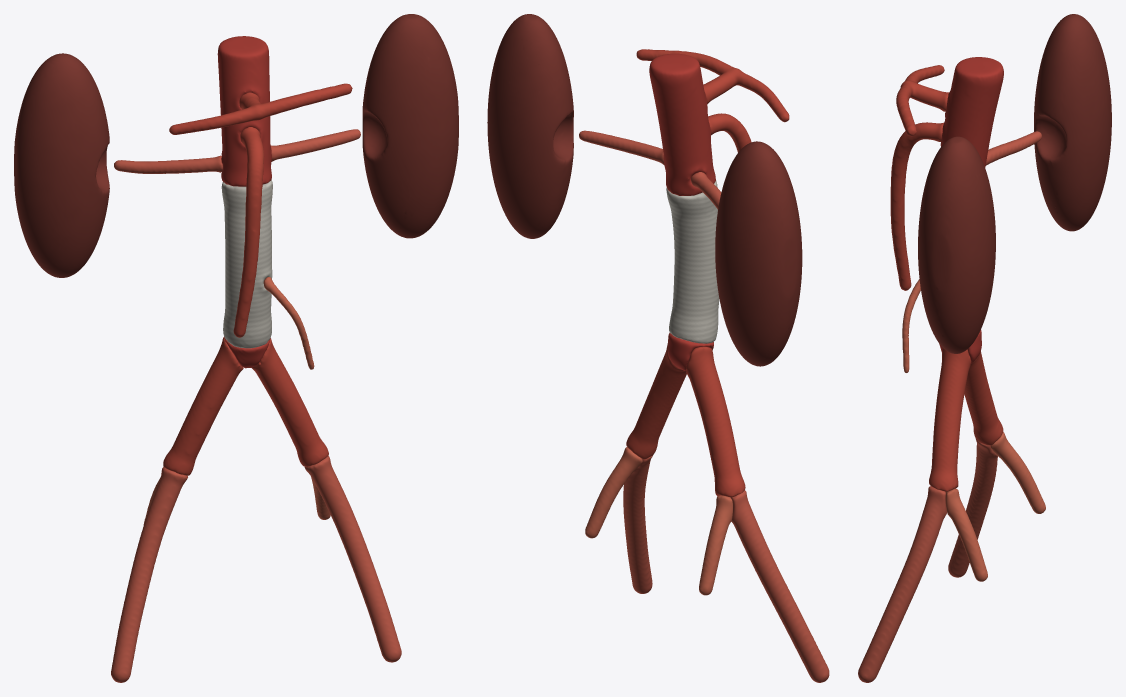
Rendered from artery_open_repair.glb.
3 views of the same model, side by side, from view 1: azimuth 30°, elevation 25°; view 2: azimuth 150°, elevation 25°; view 3: azimuth 270°, elevation 25° (orthographic). The views are drawn at different scales.
Parts seen in each view (by area): view 1: kidneys, external_iliacs, common_iliacs, aorta, tube_graft, superior_mesenteric, renal_arteries, celiac_trunk, inferior_mesenteric; view 2: kidneys, aorta, external_iliacs, common_iliacs, tube_graft, internal_iliacs, celiac_trunk, renal_arteries, superior_mesenteric; view 3: kidneys, external_iliacs, common_iliacs, aorta, internal_iliacs, superior_mesenteric, celiac_trunk, renal_arteries, inferior_mesenteric.
Boxes of the visible parts, x1,y1,x2,y2 form: kidneys: (14, 14, 458, 277); external_iliacs: (111, 455, 401, 682); common_iliacs: (163, 337, 328, 475); aorta: (217, 36, 271, 368); tube_graft: (221, 180, 272, 348); superior_mesenteric: (233, 127, 263, 337); renal_arteries: (114, 129, 360, 173); celiac_trunk: (169, 83, 352, 134); inferior_mesenteric: (263, 277, 314, 369); kidneys: (487, 14, 802, 366); aorta: (649, 53, 715, 370); external_iliacs: (623, 455, 829, 682); common_iliacs: (626, 343, 745, 497); tube_graft: (666, 180, 719, 343); internal_iliacs: (585, 447, 732, 595); celiac_trunk: (636, 49, 789, 122); renal_arteries: (579, 130, 721, 209); superior_mesenteric: (708, 113, 751, 152); kidneys: (918, 14, 1111, 353); external_iliacs: (858, 438, 997, 682); common_iliacs: (929, 348, 1003, 491); aorta: (939, 57, 1003, 363); internal_iliacs: (945, 432, 1045, 581); superior_mesenteric: (890, 122, 943, 290); celiac_trunk: (896, 65, 949, 136); renal_arteries: (985, 131, 1041, 165); inferior_mesenteric: (902, 279, 920, 372).
Bounding box in the file's own units: 17.44 × 26.79 × 10.72.
